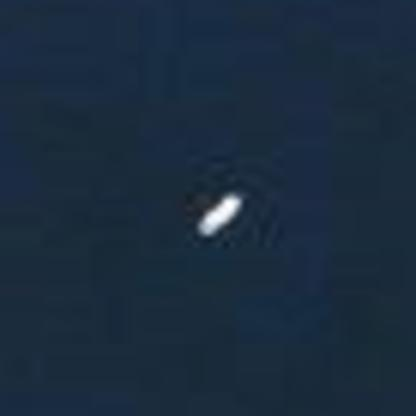ship: (189, 187, 248, 244)
